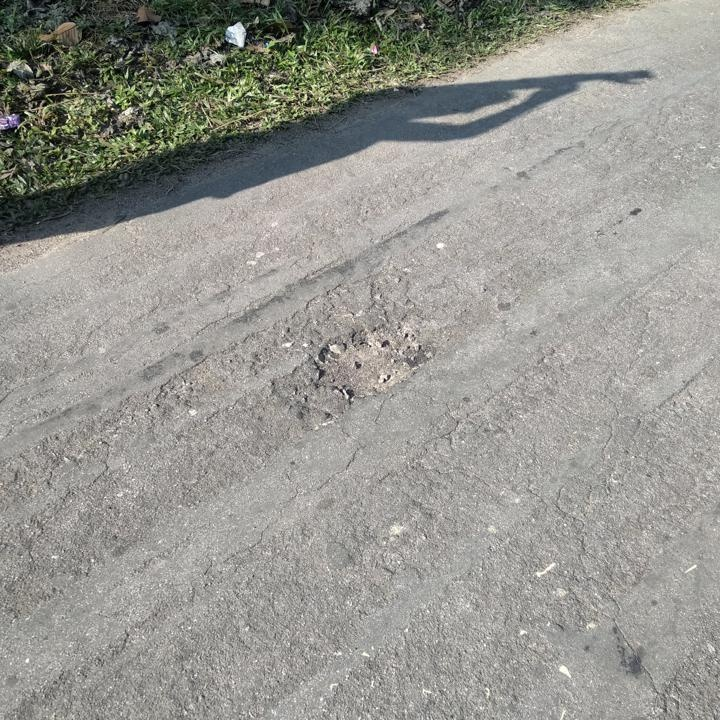pothole: (309, 321, 422, 402)
